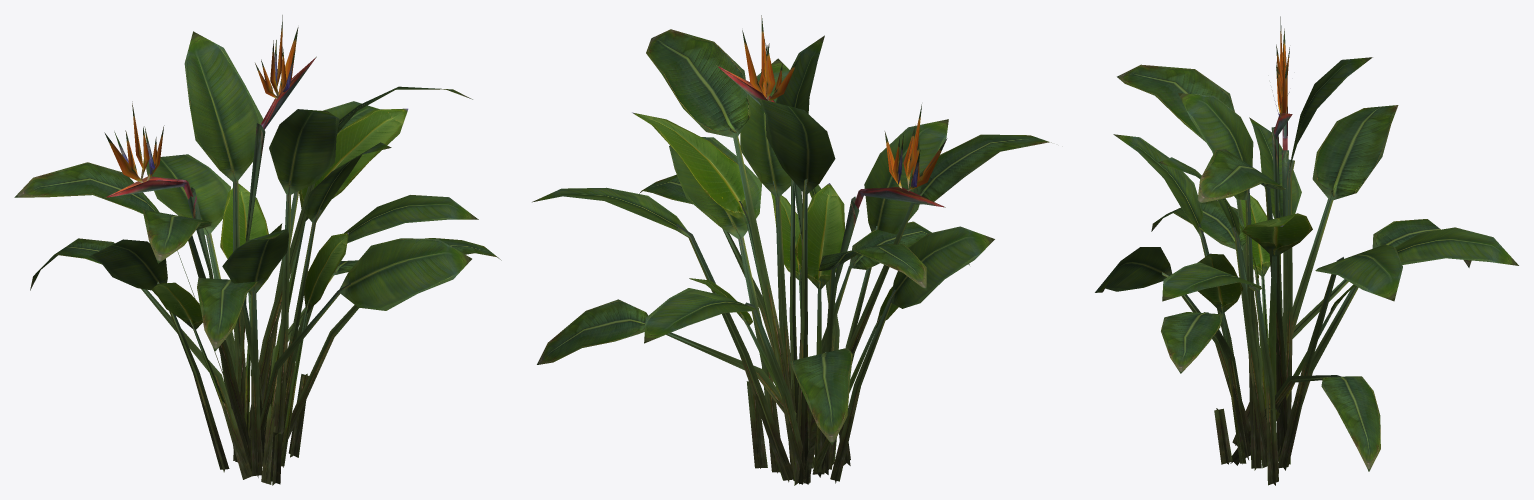
Rendered from Grass10.fbx.
The picture shows the model from 3 angles, left to right: view 1: azimuth 30°, elevation 25°; view 2: azimuth 150°, elevation 25°; view 3: azimuth 270°, elevation 25°; orthographic projection. The views are drawn at different scales.
Visible parts, largest first — view 1: LV_Gnollando_Foliage_Flower01_PM_NWCBOB; view 2: LV_Gnollando_Foliage_Flower01_PM_NWCBOB; view 3: LV_Gnollando_Foliage_Flower01_PM_NWCBOB.
Part boxes in pixels (<box>): LV_Gnollando_Foliage_Flower01_PM_NWCBOB: <box>14,15,501,485</box>; LV_Gnollando_Foliage_Flower01_PM_NWCBOB: <box>532,15,1051,485</box>; LV_Gnollando_Foliage_Flower01_PM_NWCBOB: <box>1095,16,1518,485</box>.
Bounding box in the file's own units: 0.2143 × 0.2357 × 0.2039.
Materials: 1 (1 with a texture image).
